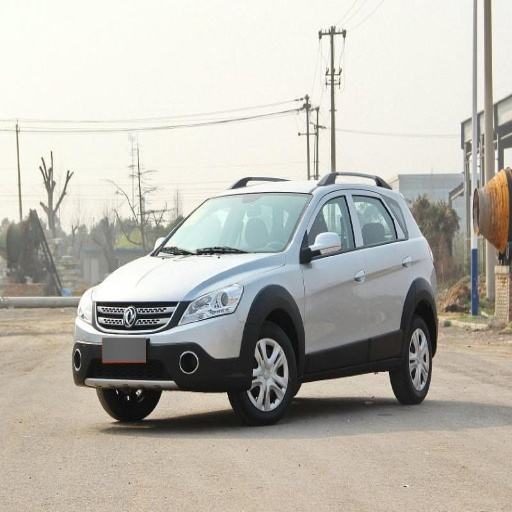front_bumper: (71, 288, 248, 390)
front_glass: (154, 194, 309, 254)
front_left_door: (301, 191, 369, 367)
